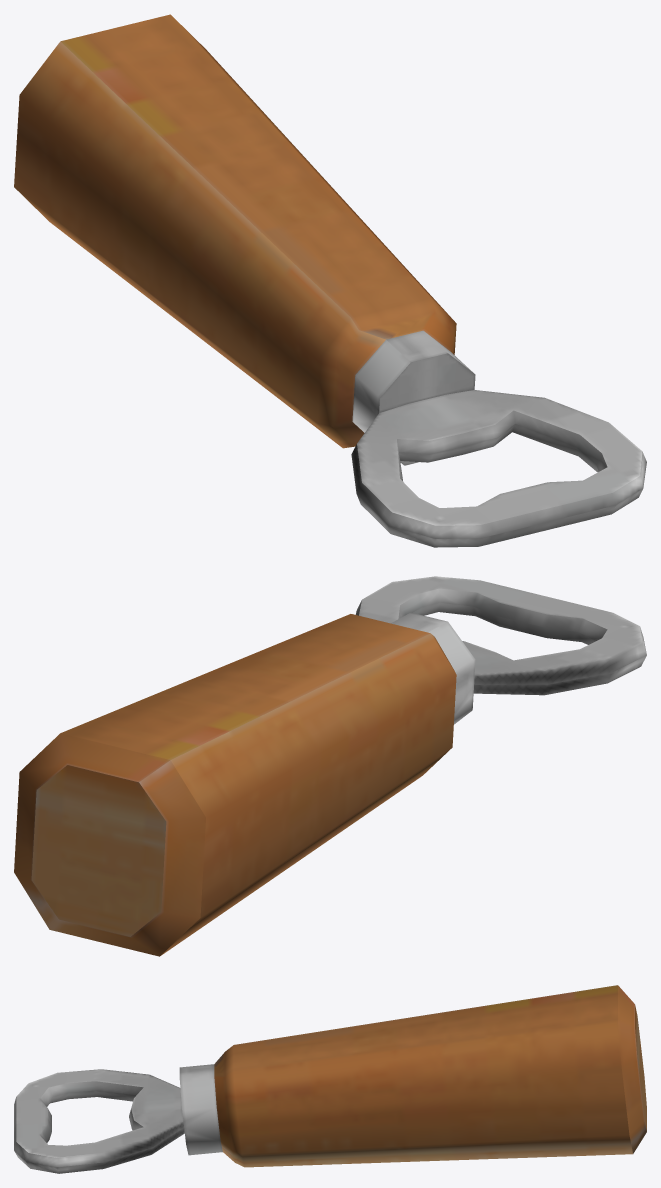
Rendered from Bottle_Opener_01.fbx.
The picture shows the model from 3 angles, top to bottom: view 1: azimuth 30°, elevation 25°; view 2: azimuth 150°, elevation 25°; view 3: azimuth 270°, elevation 25°; orthographic projection. The views are drawn at different scales.
Parts seen in each view (by area): view 1: Bottle_Opener_01; view 2: Bottle_Opener_01; view 3: Bottle_Opener_01.
Boxes of the visible parts, left/top/right/bottom form: Bottle_Opener_01: left=14, top=14, right=646, bottom=547; Bottle_Opener_01: left=14, top=576, right=646, bottom=956; Bottle_Opener_01: left=14, top=985, right=646, bottom=1173.
Bounding box in the file's own units: 270 × 214 × 820.
Materials: 1 (1 with a texture image).
